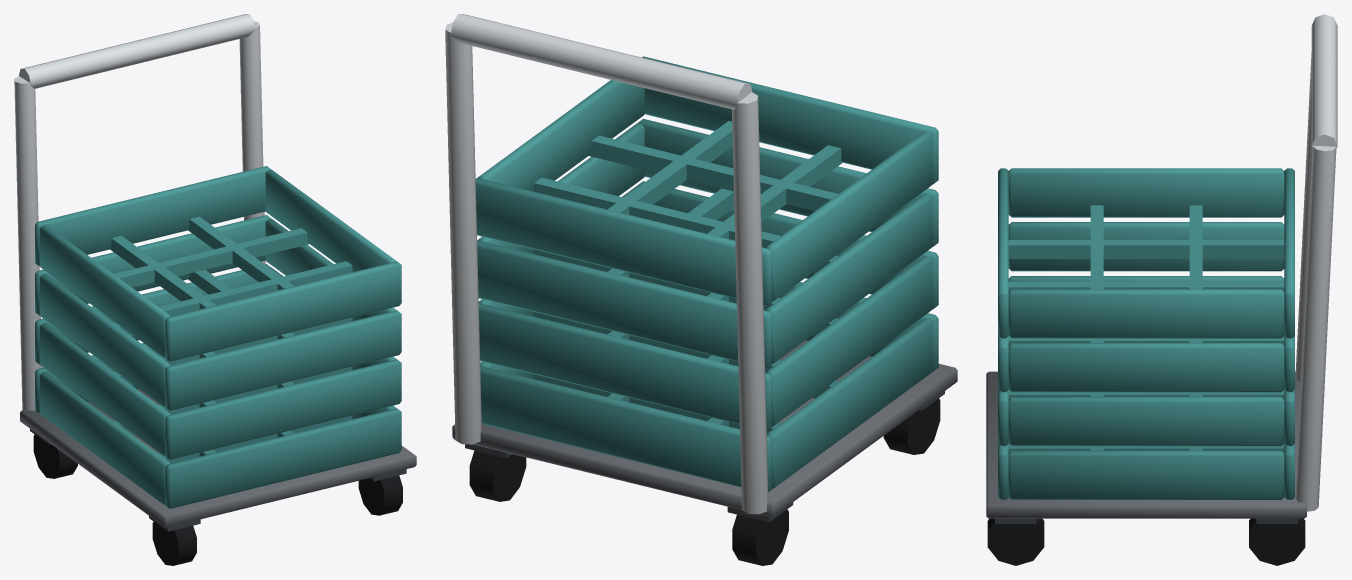
Rendered from SM_DishRack_Stack_01.glb.
3 views of the same model, side by side, from view 1: azimuth 30°, elevation 25°; view 2: azimuth 150°, elevation 25°; view 3: azimuth 270°, elevation 25° (orthographic). The views are drawn at different scales.
Visible parts, largest first — view 1: SM_DishRack_Stack_01; view 2: SM_DishRack_Stack_01; view 3: SM_DishRack_Stack_01.
Part boxes in pixels (x1,y1,x2,y2): SM_DishRack_Stack_01: [14, 14, 416, 565]; SM_DishRack_Stack_01: [445, 14, 957, 565]; SM_DishRack_Stack_01: [986, 14, 1337, 565].
Size of the model in its own units: 0.54 by 0.802 by 0.592.
1 material, 1 textured.
